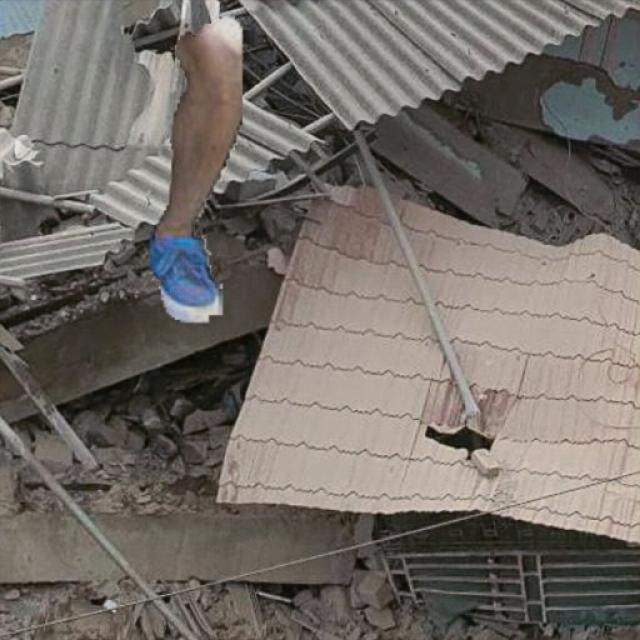Person in Rubble: (150, 13, 241, 322)
